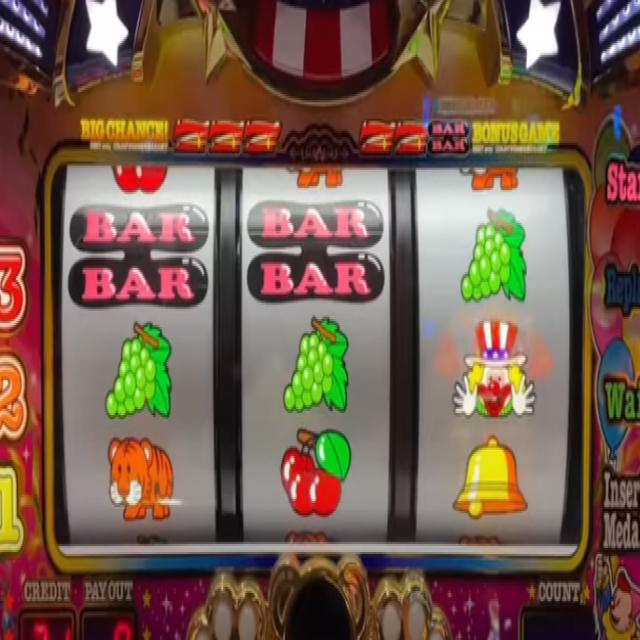bar: (66, 202, 210, 309), (245, 196, 385, 306), (429, 119, 470, 155)
bell: (452, 431, 528, 522)
cherry: (279, 426, 353, 518), (112, 160, 169, 195)
clown: (452, 317, 538, 422)
display: (51, 157, 582, 554)
grape: (104, 318, 174, 424), (282, 314, 350, 416), (460, 208, 528, 307)
tiger: (106, 436, 174, 523), (460, 160, 520, 193), (284, 160, 344, 191)
z: (172, 114, 210, 155), (246, 114, 282, 157), (358, 118, 396, 157), (211, 114, 244, 156), (397, 120, 428, 157)
